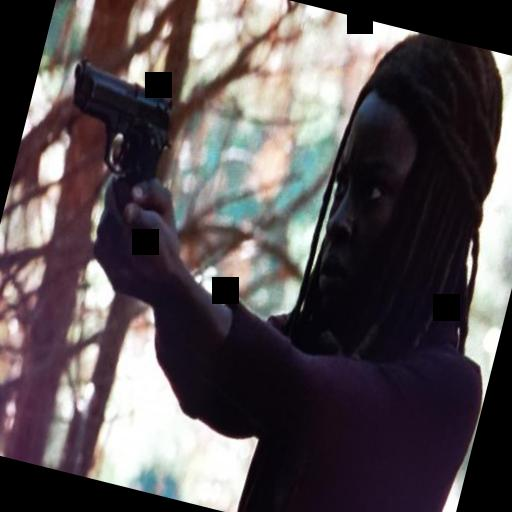Handgun: (45, 44, 188, 216)
